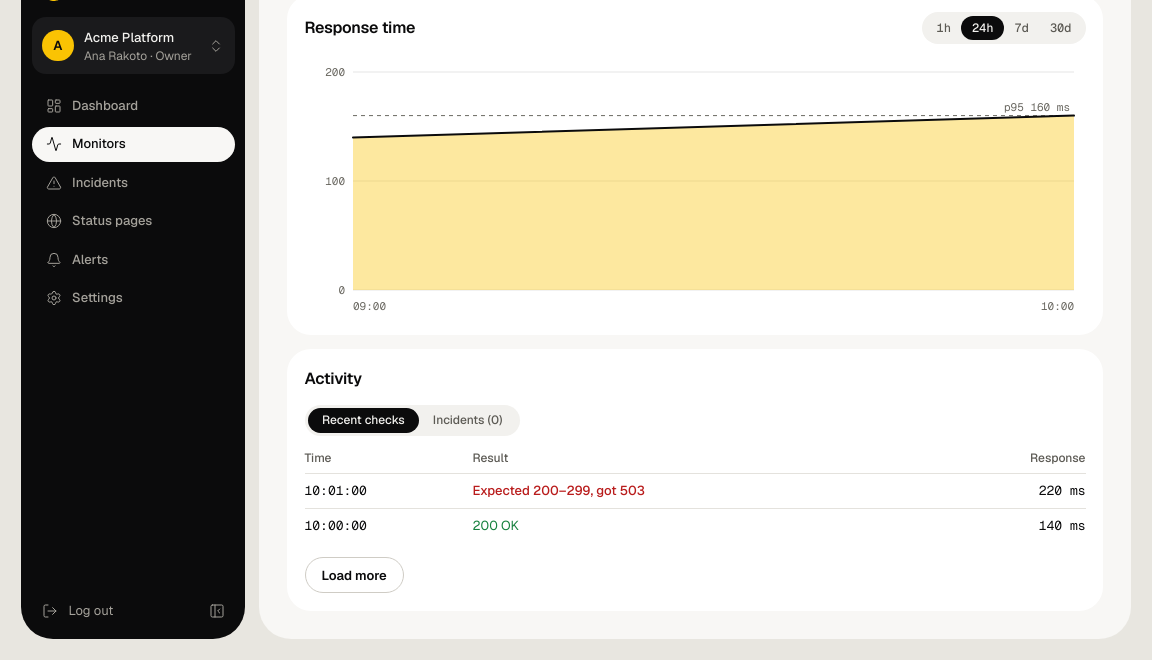
Test: Monitor detail (signed in) › loads older checks on request
(page scrolled)
Click the button "Load more": (354, 575) [304, 557, 404, 593]
(page scrolled)
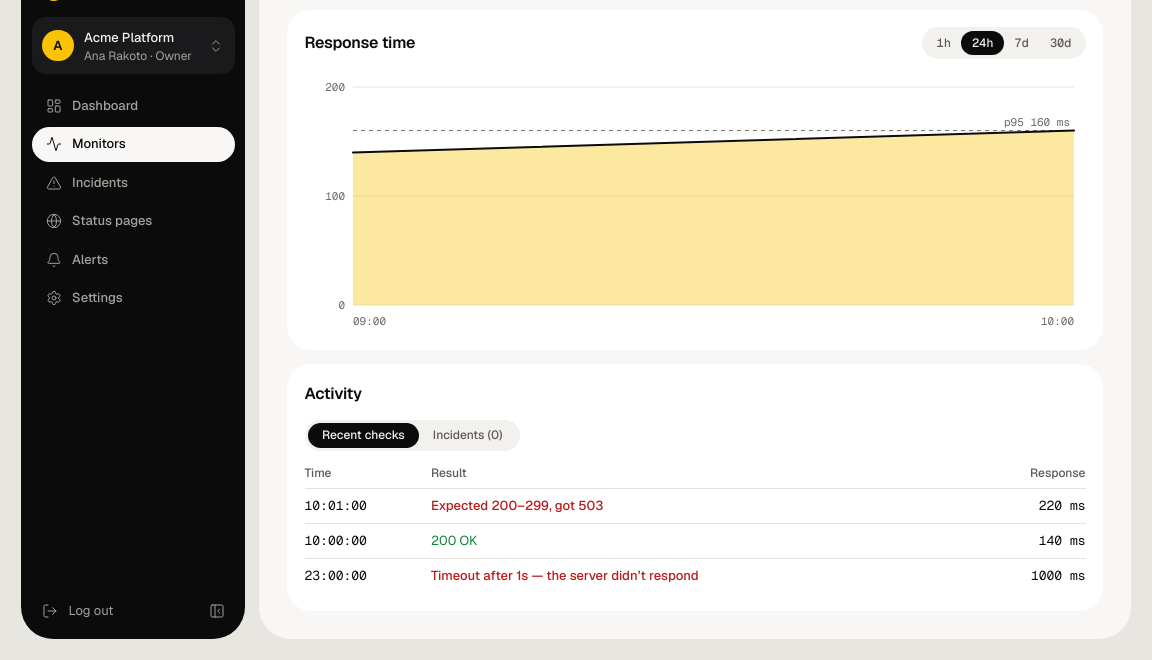
Now the text "Timeout after 1s — the server didn’t respond" is shown, box [431, 567, 699, 584]
Now the button "Load more" is gone
